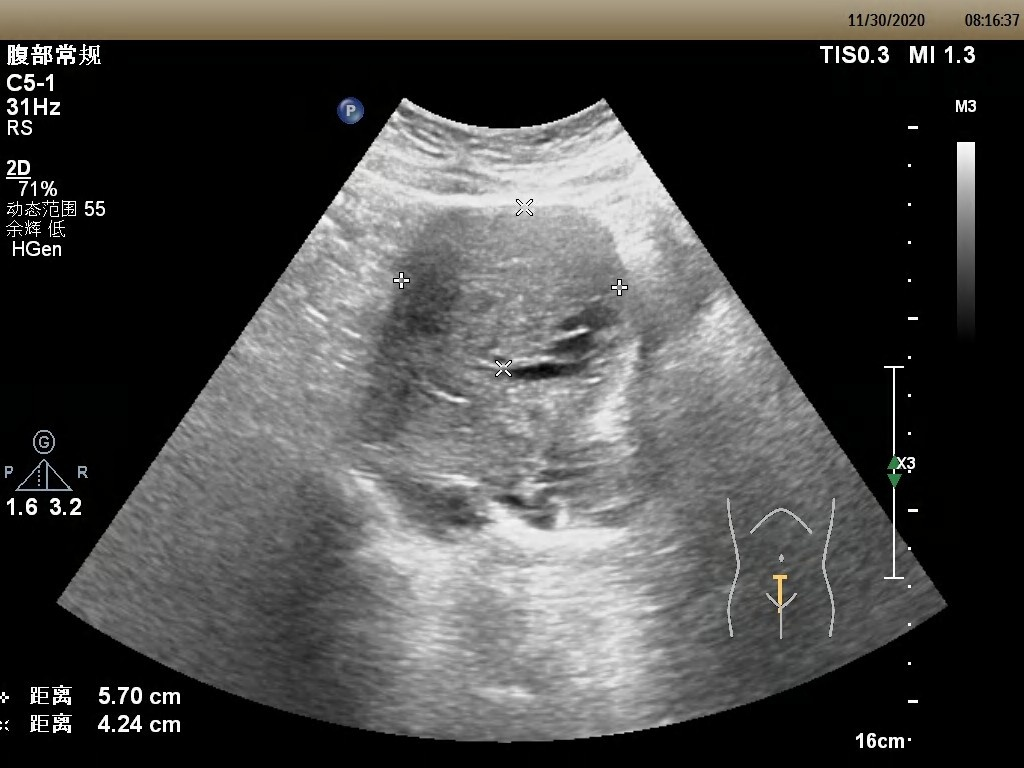肌瘤: (403, 205, 620, 367)
